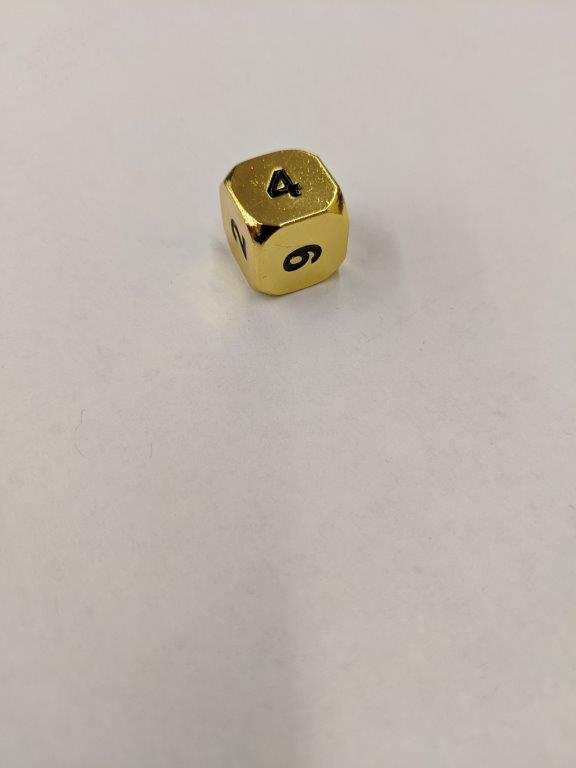d6-4: (220, 146, 351, 295)
